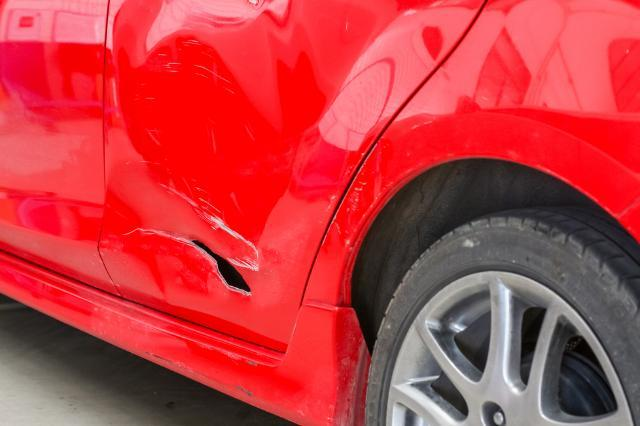Door: (115, 167, 320, 326)
